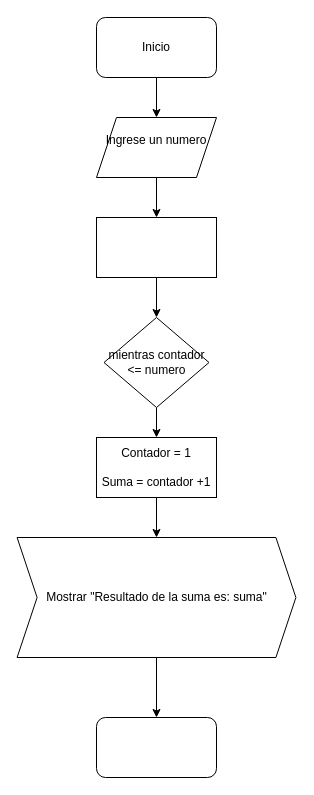
The diagram is 314 pixels wide and 795 high, and some of its shapes have lost their labels. Each missing label, with the box of its shape:
Contador = 1: (96, 216, 216, 278)
Fin: (96, 716, 216, 778)
